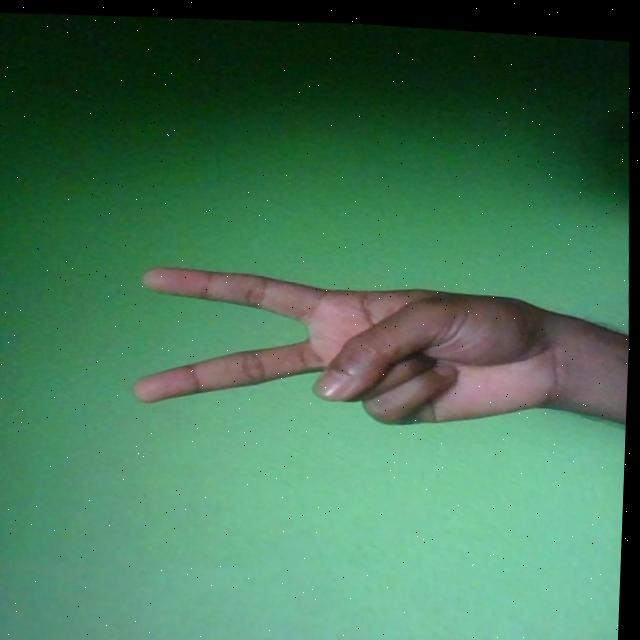Peace: (129, 248, 572, 438)
